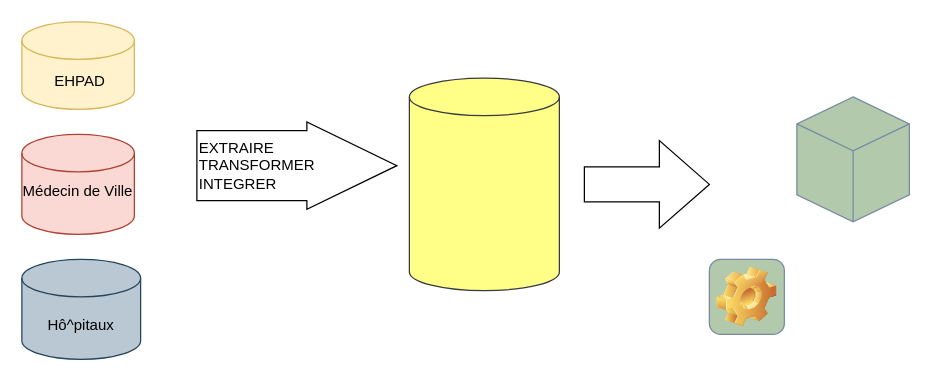
The diagram is 931 pixels wide and 388 high, and some of its shapes have lost their labels. The centre of each missing label's shape, as x and y in pixels:
"ENTREPÔT DE DONNÉES" belongs at point 483,184.
"Icon" belongs at point 746,296.
